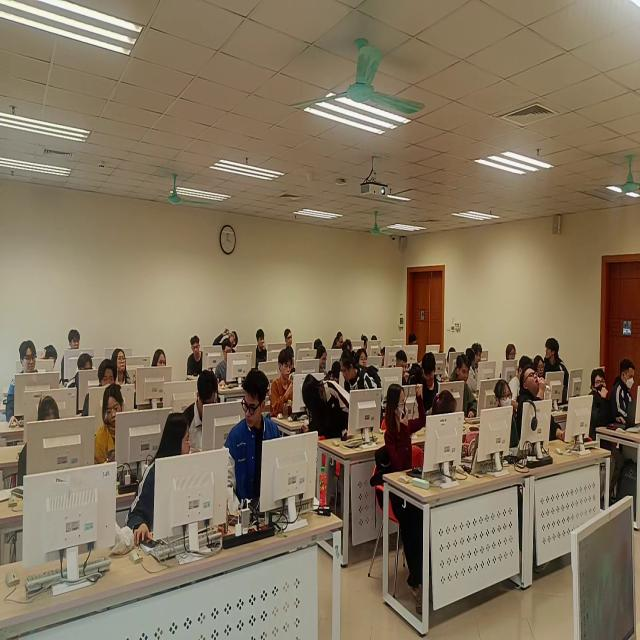raise_head: (519, 368, 556, 455), (589, 370, 617, 464), (494, 381, 522, 463), (88, 364, 118, 414), (148, 349, 168, 389), (254, 330, 274, 370), (114, 349, 135, 385), (505, 342, 520, 382), (69, 329, 82, 358), (284, 328, 296, 351)
using_computer: (21, 396, 68, 496), (95, 387, 147, 475), (179, 371, 229, 462), (7, 341, 52, 428), (448, 354, 489, 427), (614, 361, 640, 438), (420, 355, 449, 422), (216, 342, 246, 395), (68, 356, 96, 405), (186, 338, 215, 382), (394, 353, 416, 399), (473, 343, 493, 384), (409, 334, 430, 367), (537, 357, 555, 389), (314, 348, 334, 376), (362, 335, 377, 355), (333, 334, 345, 353)
using_phone: (272, 353, 301, 425)
